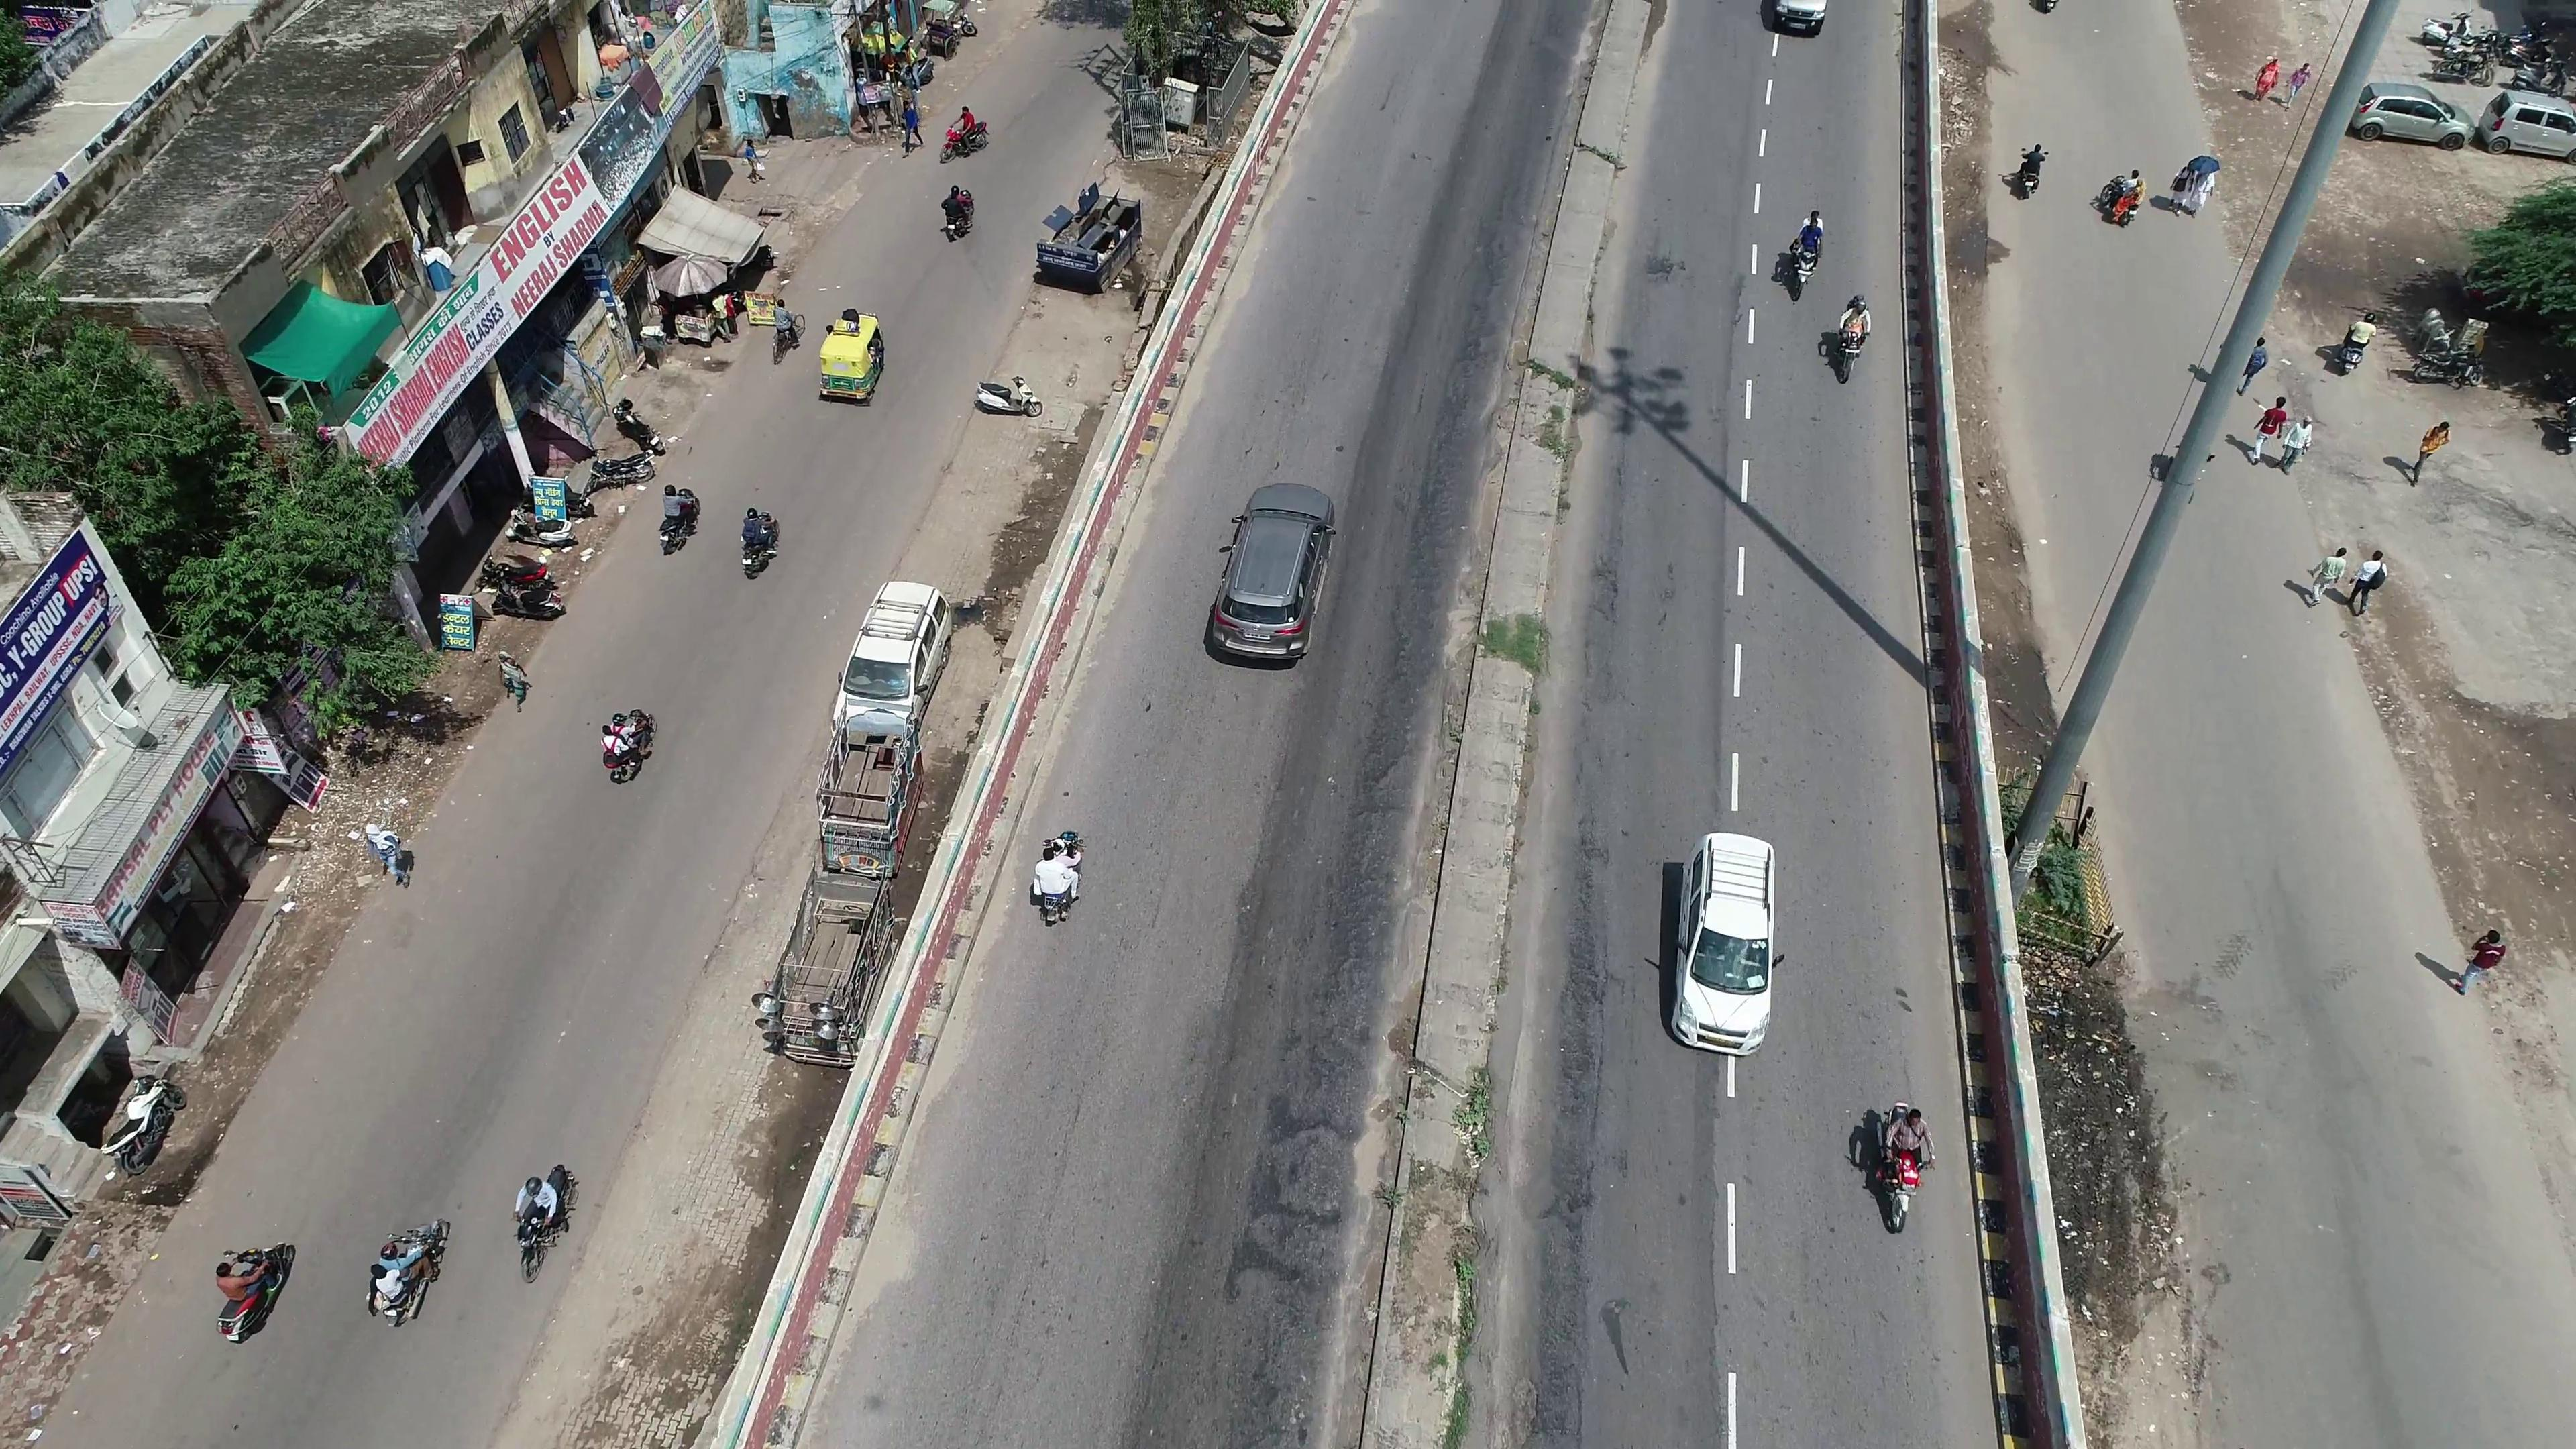Ravelling: (1251, 957, 1362, 1242), (1541, 842, 1615, 1116), (1341, 681, 1417, 892), (1546, 1127, 1606, 1391)
